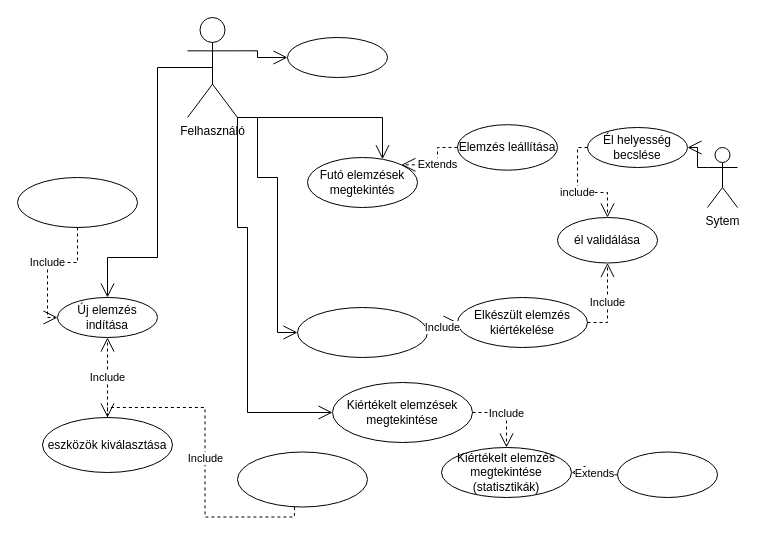
This 757x549 diagram has some shape labels left out. The box of each missing label's shape, as (x1, y1, x2, y2) in pixels:
Elkészült elemzések megtekintése: (296, 306, 428, 358)
input megadása: (16, 176, 138, 228)
nyelv kiválasztása: (236, 451, 368, 507)
riport készítés: (616, 451, 718, 498)
Új eszköz felvétele: (286, 36, 388, 78)
